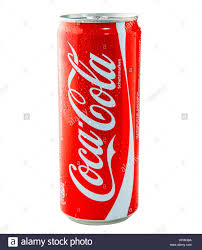coca_cola_can: (58, 12, 141, 225)
